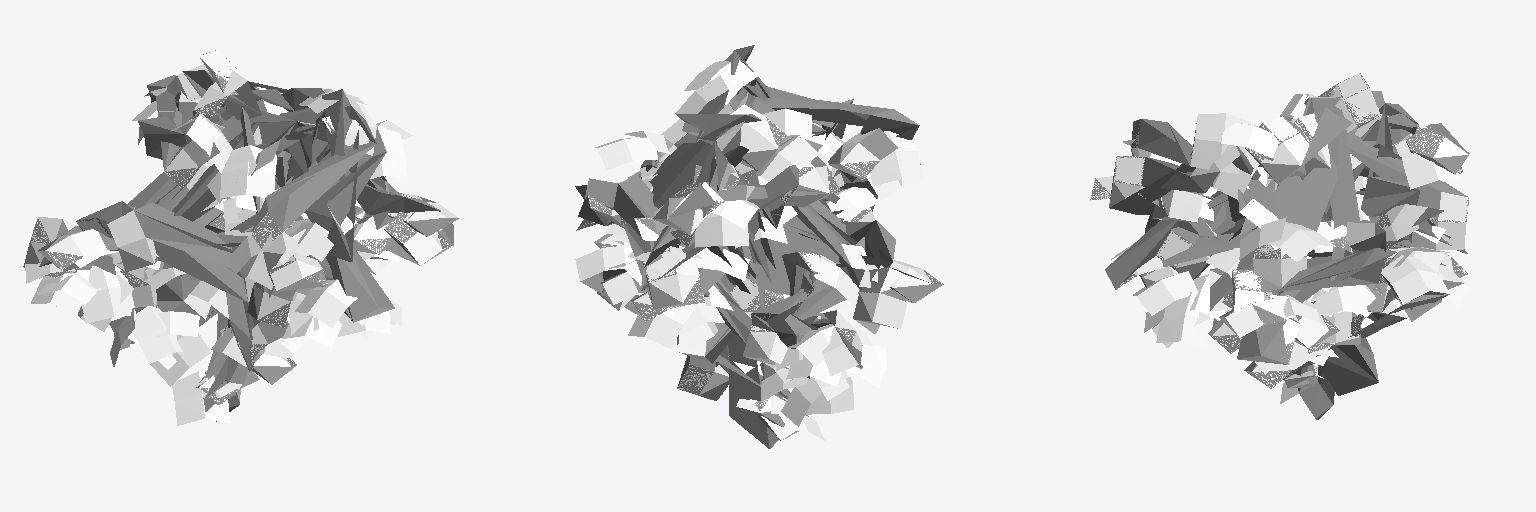
Rendered from Tree_Type2.obj.
The picture shows the model from 3 angles: view 1: azimuth 30°, elevation 25°; view 2: azimuth 150°, elevation 25°; view 3: azimuth 270°, elevation 25°; orthographic projection.
Parts seen in each view (by area): view 1: Tree2_Leaves, Tree2_Bark; view 2: Tree2_Leaves, Tree2_Bark; view 3: Tree2_Bark, Tree2_Leaves.
Part boxes in pixels (left/top/right/bottom): Tree2_Leaves: left=25, top=50, right=459, bottom=425; Tree2_Bark: left=23, top=50, right=458, bottom=421; Tree2_Leaves: left=575, top=45, right=941, bottom=440; Tree2_Bark: left=575, top=47, right=943, bottom=448; Tree2_Bark: left=1090, top=73, right=1469, bottom=419; Tree2_Leaves: left=1090, top=73, right=1469, bottom=418.
Bounding box in the file's own units: 12.92 × 11.47 × 11.3.